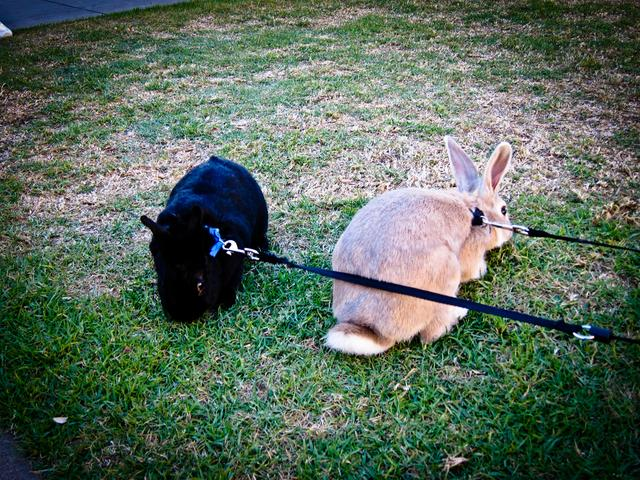rabbit: (97, 118, 284, 361), (335, 129, 538, 345)
